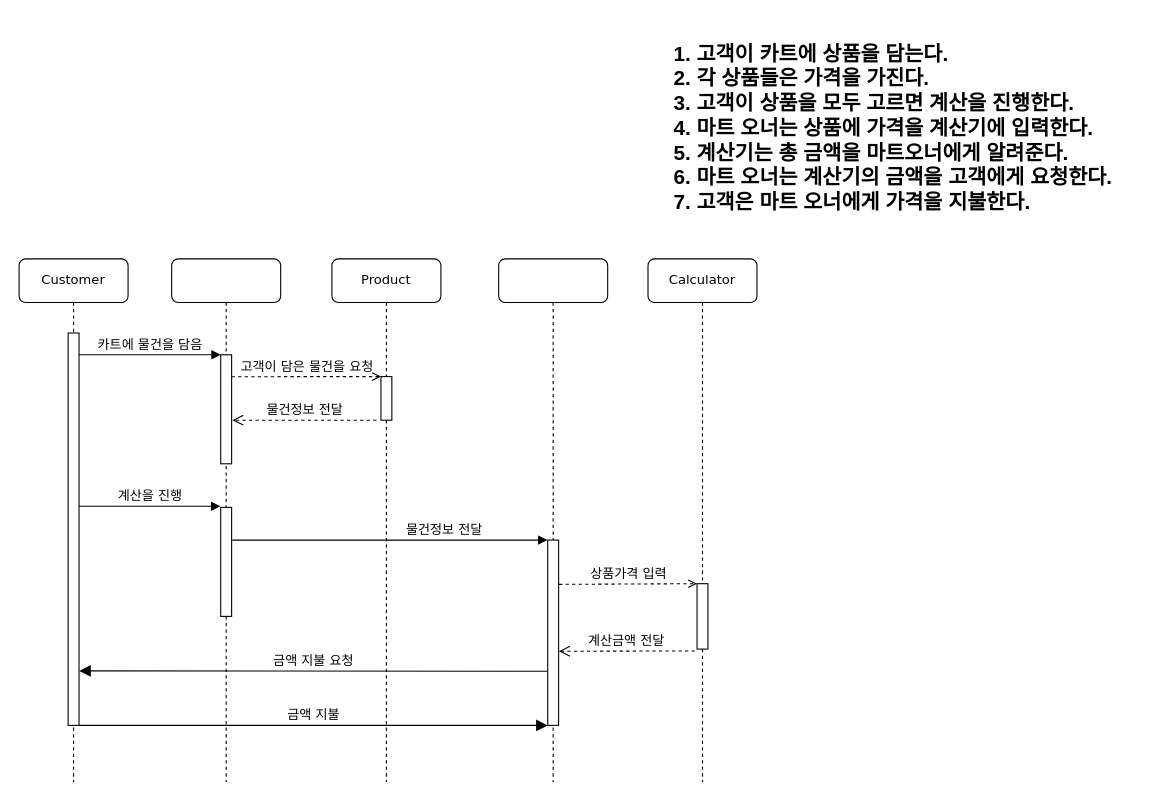
The diagram is 1172 pixels wide and 801 high, and some of its shapes have lost their labels. The shapes that lost their labels are listed below. From the top down, each one's centre as x and y in pixels, then its label:
the point at 226,520: Cart
the point at 553,520: Martowner
